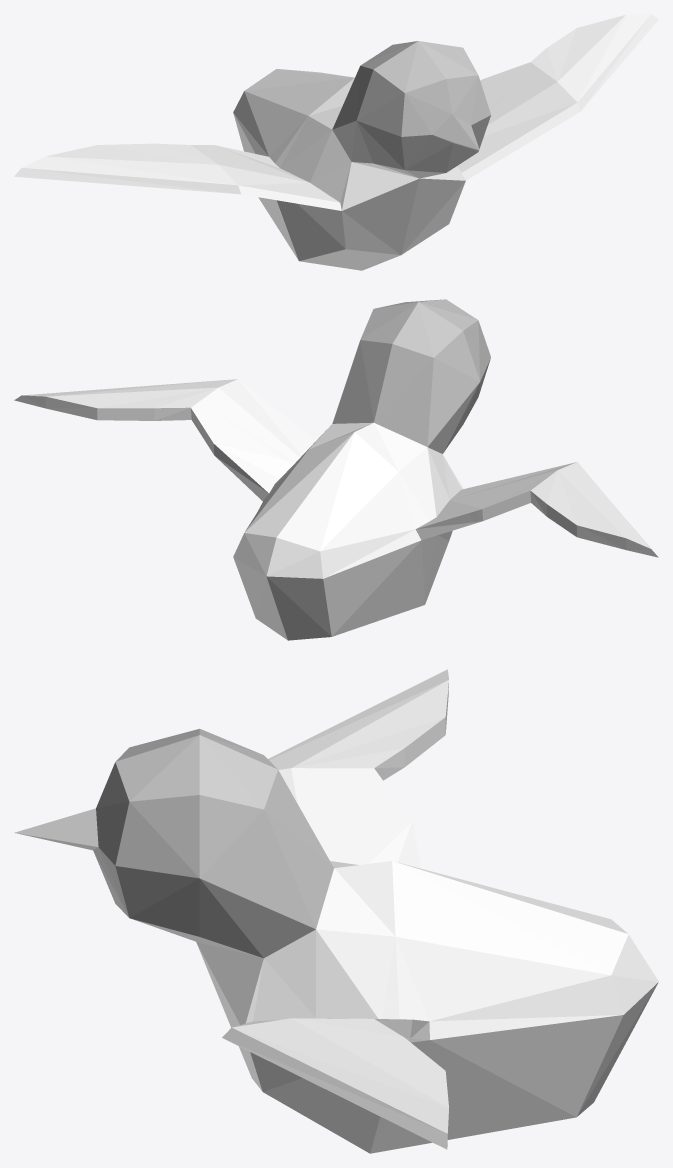
Rendered from player_bird.obj.
The picture shows the model from 3 angles, top to bottom: view 1: azimuth 30°, elevation 25°; view 2: azimuth 150°, elevation 25°; view 3: azimuth 270°, elevation 25°; orthographic projection. The views are drawn at different scales.
Visible parts, largest first — view 1: 立方体; view 2: 立方体; view 3: 立方体.
Part boxes in pixels (<box>): 立方体: <box>14,14,658,270</box>; 立方体: <box>14,299,658,640</box>; 立方体: <box>14,669,658,1153</box>.
Bounding box in the file's own units: 7.6 × 3.05 × 4.35.
Materials: 2 (1 with a texture image).
